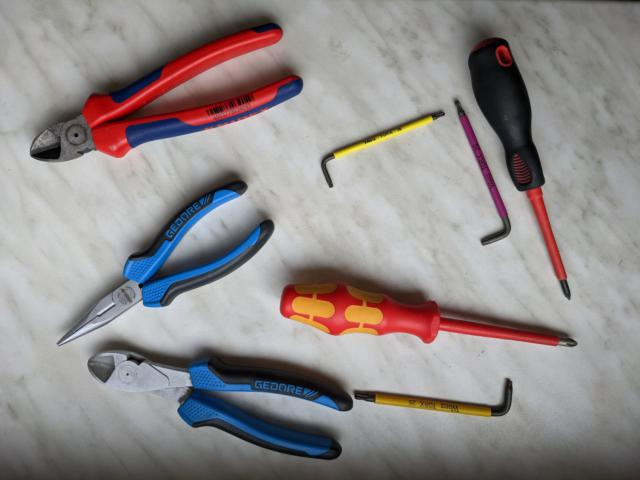Inbusschlüssel: (317, 107, 449, 192), (450, 97, 514, 246), (352, 374, 516, 419)
Schraubendreher: (467, 35, 574, 303), (278, 276, 581, 351)
Seitenschneider: (27, 18, 306, 165), (84, 344, 355, 463)
Zange: (52, 176, 278, 350)
